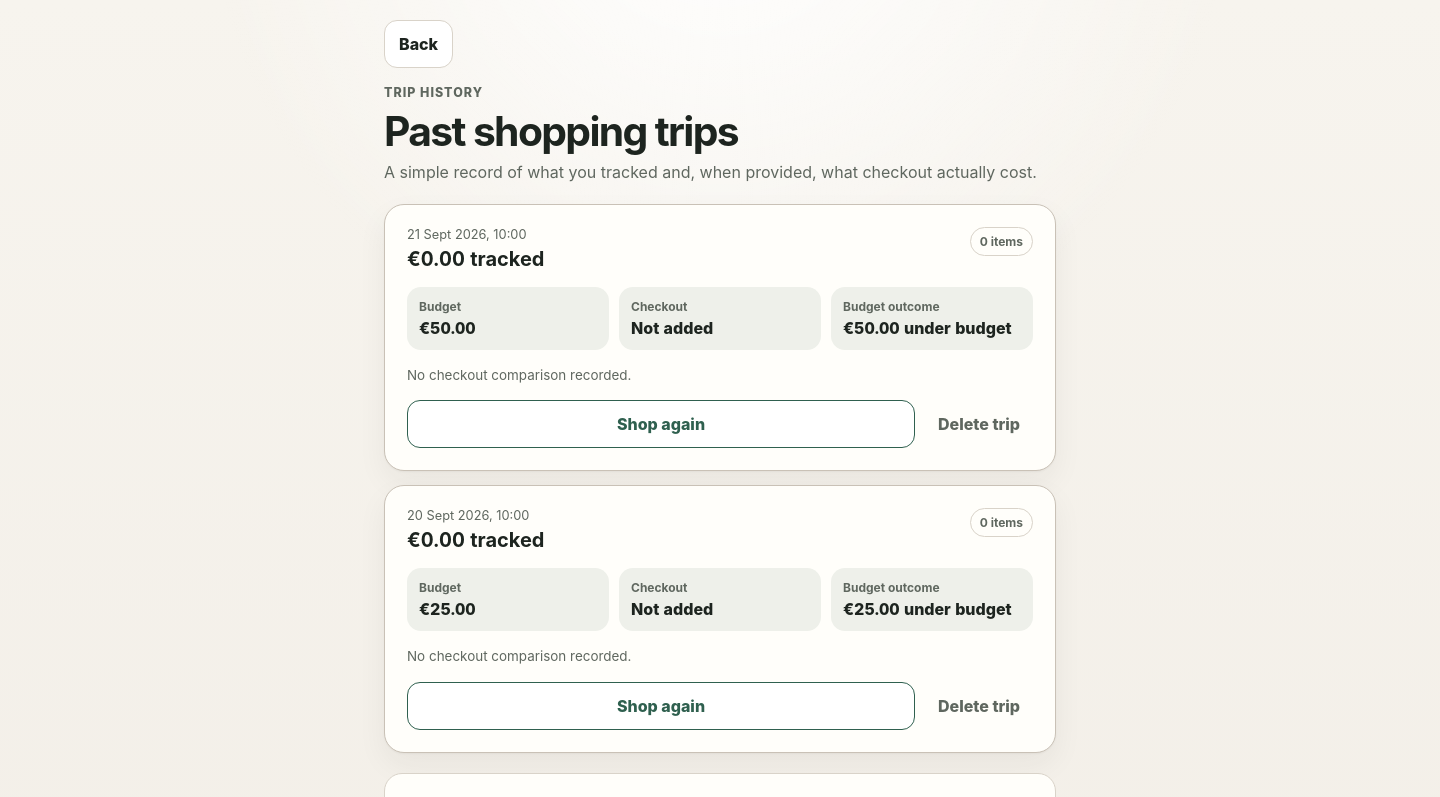
Test: HistoryScreen › requires explicit confirmation before deleting a trip
The image size is (1440, 797).
Click the button "Delete trip" below "€25.00 under budget" at (979,706), box [925,682,1033,730]
(page scrolled)
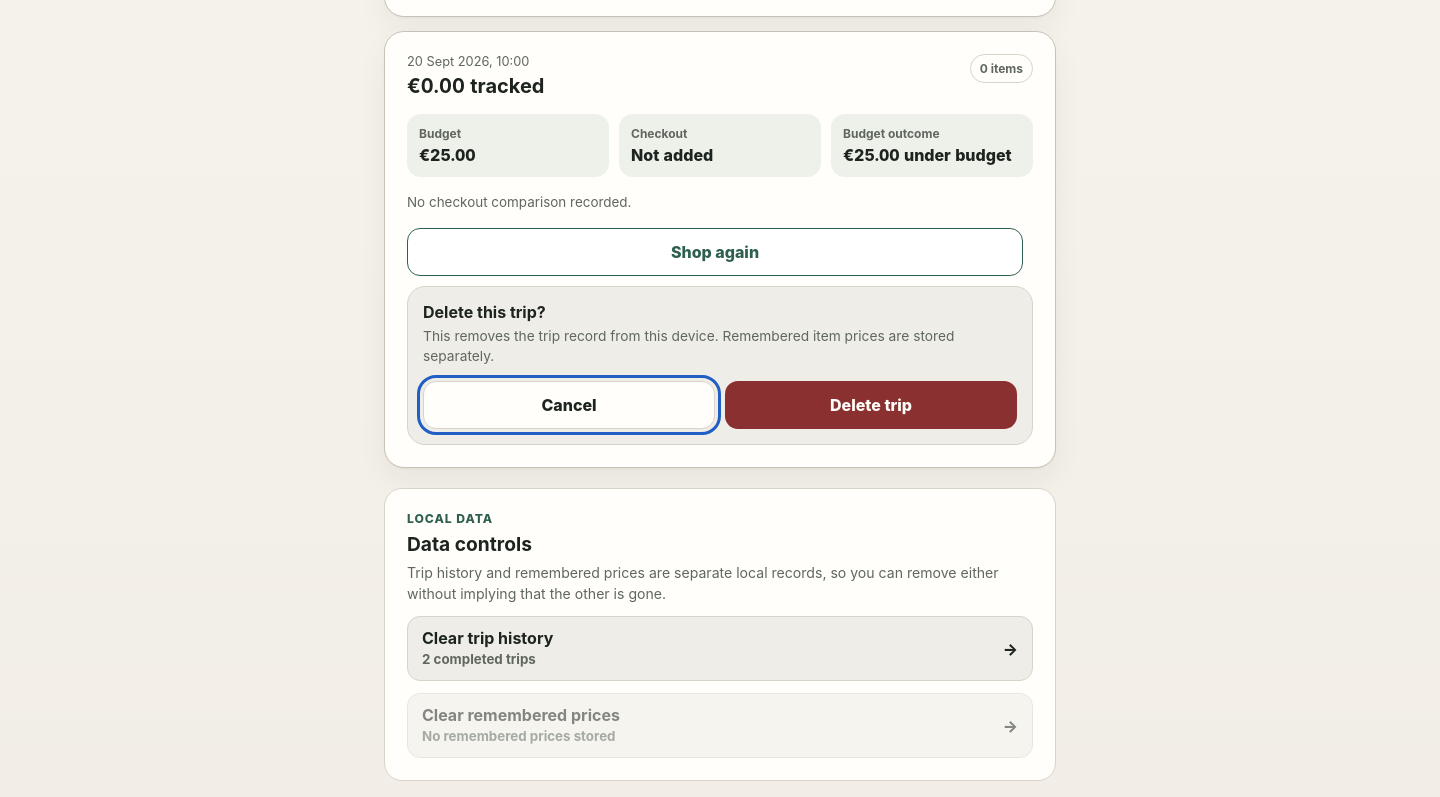
Now the text "Remembered item prices are stored separately" is shown, box [423,328,954,364]
Click the button "Delete trip" at (871,405), box [725,381,1017,429]
(page scrolled)
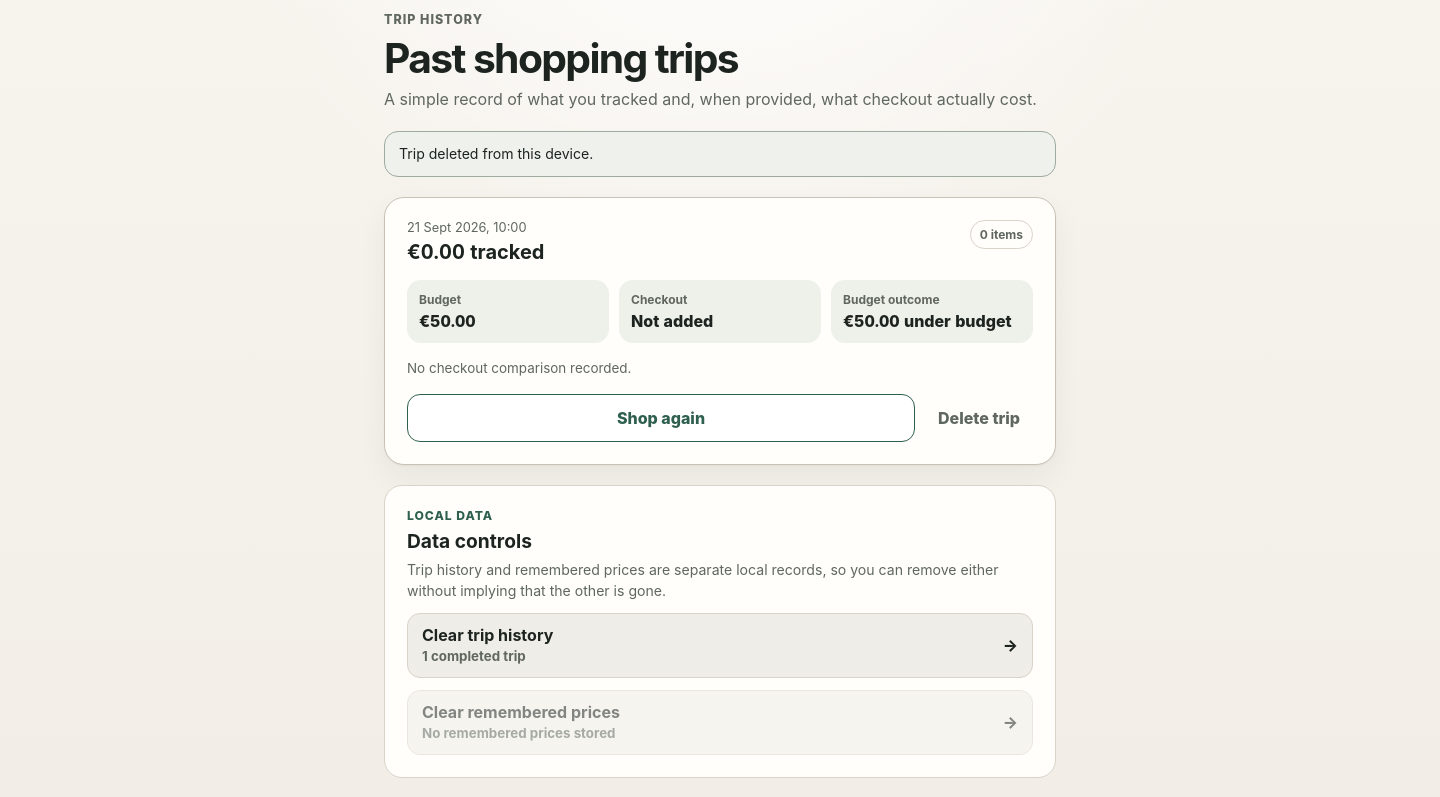
Now the text "Trip deleted from this device." is shown, box [384,130,1056,177]
